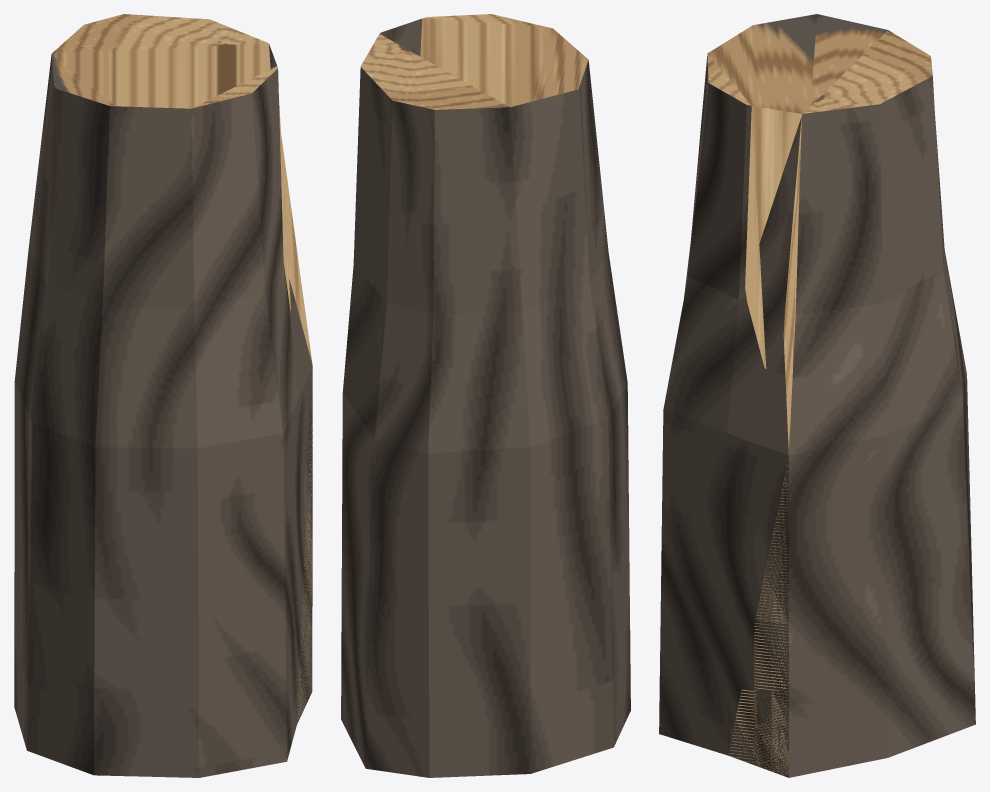
Rendered from environment_fir2_stump_v1.fbx.
3 renders of one model, left to right at view 1: azimuth 30°, elevation 25°; view 2: azimuth 150°, elevation 25°; view 3: azimuth 270°, elevation 25°, orthographic.
Visible parts, largest first — view 1: environment_fir2_stump_v1; view 2: environment_fir2_stump_v1; view 3: environment_fir2_stump_v1.
Part boxes in pixels (x1,y1,x2,y2): environment_fir2_stump_v1: (14,14,312,777); environment_fir2_stump_v1: (341,14,630,777); environment_fir2_stump_v1: (659,14,975,777).
Size of the model in its own units: 88.18 by 200 by 88.88.
